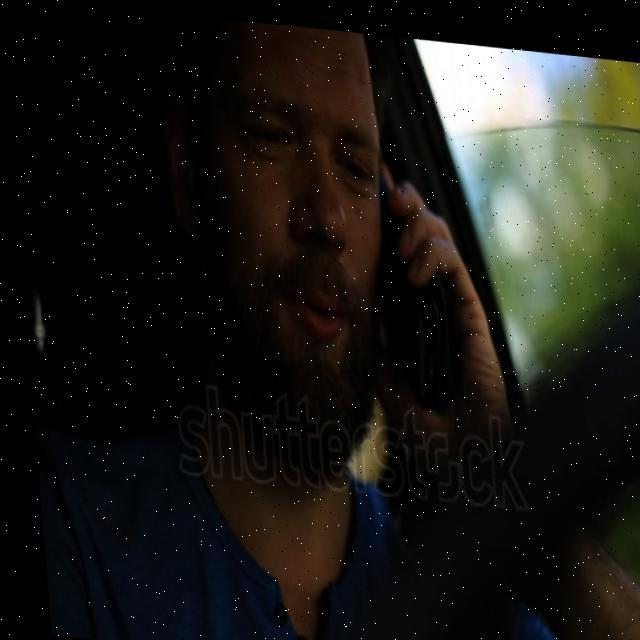PhoneCall: (368, 159, 455, 413)
